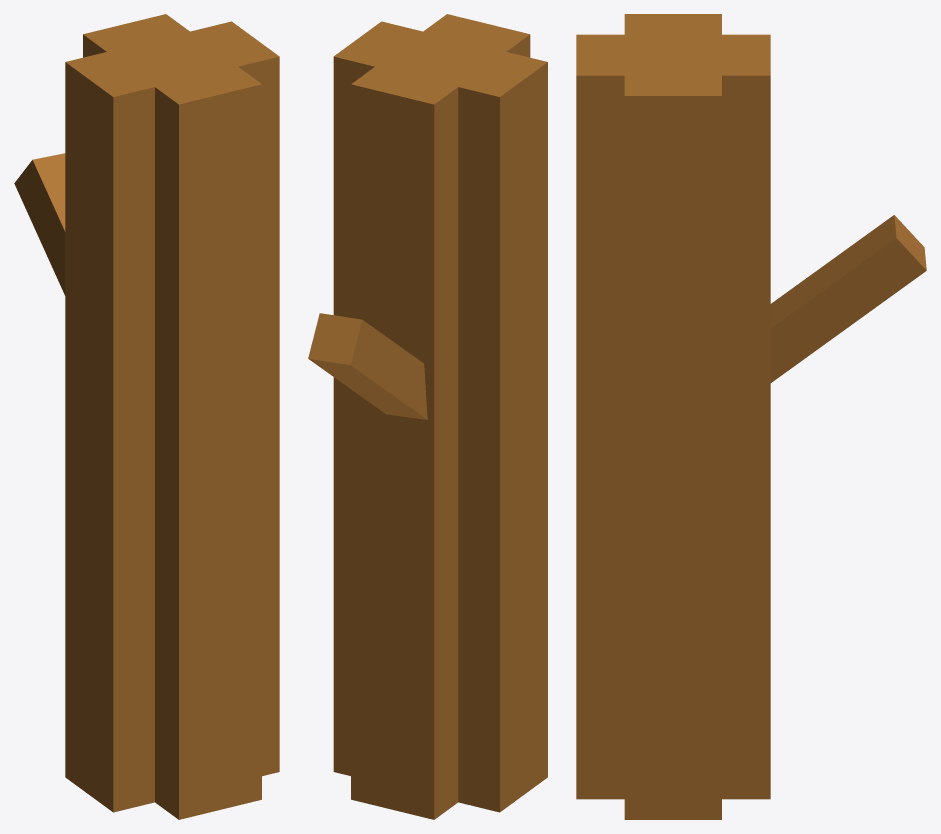
Rendered from Model_Stick.fbx.
The picture shows the model from 3 angles, left to right: view 1: azimuth 30°, elevation 25°; view 2: azimuth 150°, elevation 25°; view 3: azimuth 270°, elevation 25°; orthographic projection.
Parts seen in each view (by area): view 1: Model_Stick; view 2: Model_Stick; view 3: Model_Stick.
Boxes of the visible parts, x1=… form: Model_Stick: x1=14, y1=14, x2=279, y2=819; Model_Stick: x1=308, y1=14, x2=547, y2=819; Model_Stick: x1=576, y1=14, x2=926, y2=819.
Bounding box in the file's own units: 10 × 41.09 × 18.04.
